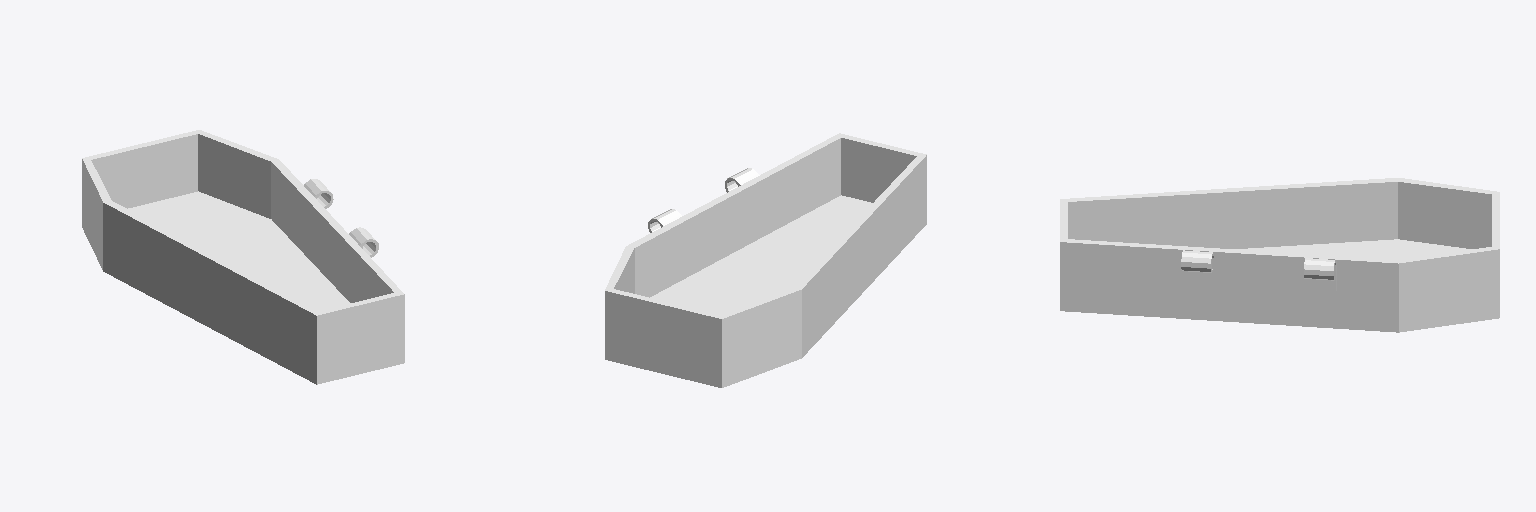
File: Asset_Coffin_Bot.obj
3 views of the same model, side by side, from view 1: azimuth 30°, elevation 25°; view 2: azimuth 150°, elevation 25°; view 3: azimuth 270°, elevation 25° (orthographic).
Parts seen in each view (by area): view 1: Object029; view 2: Object029; view 3: Object029.
Part boxes in pixels (x1,y1,x2,y2): Object029: (82, 130, 404, 384); Object029: (605, 133, 926, 387); Object029: (1060, 178, 1499, 332).
Size of the model in its own units: 159 by 59.12 by 325.